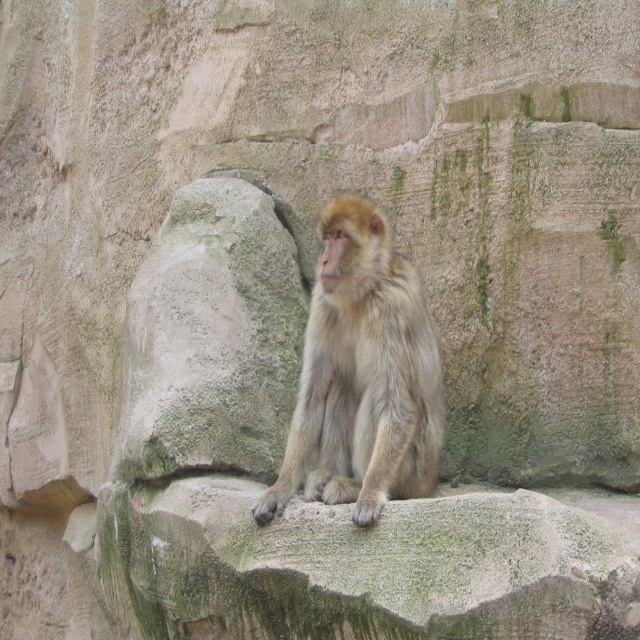Monkey: (244, 187, 443, 542)
